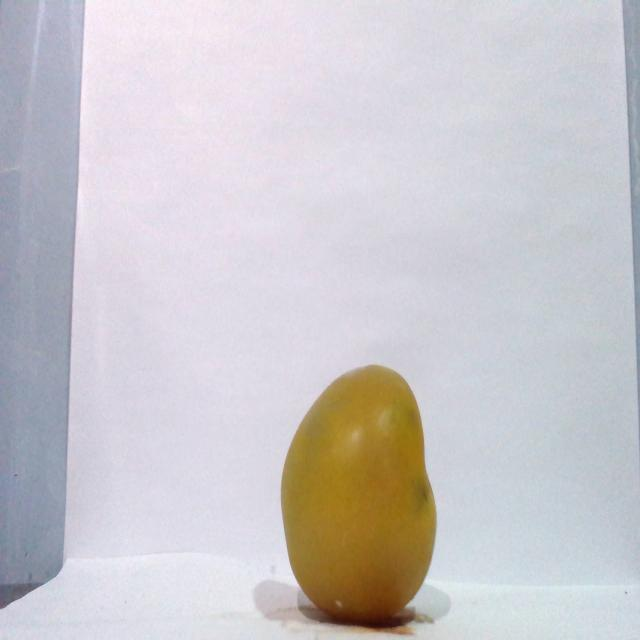Green: (278, 362, 438, 623)
